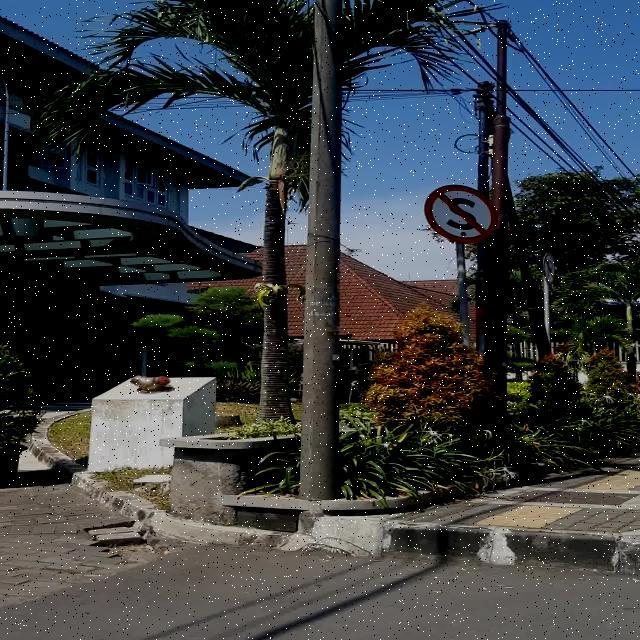Dilarang Berhenti: (424, 185, 498, 242)
